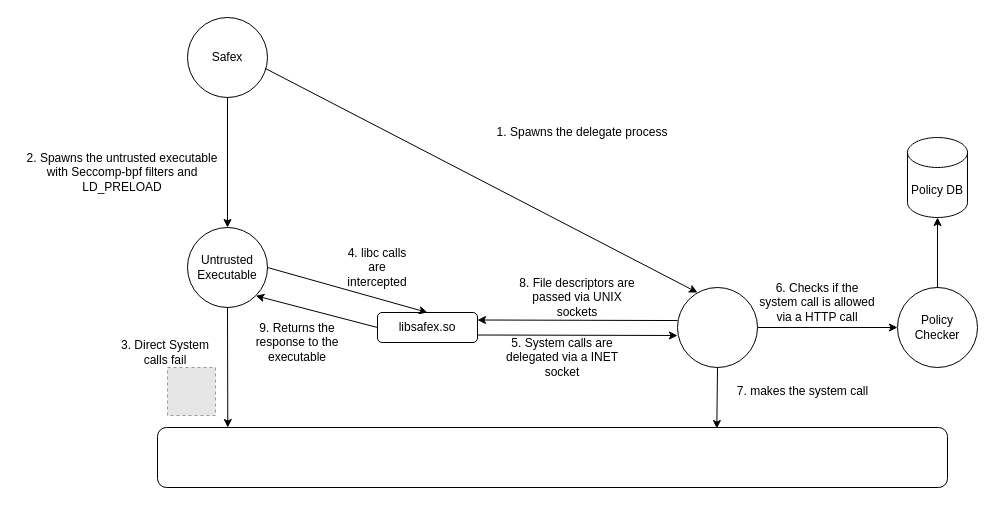
Image size: 995x505. Some labels were removed from this diagram. Grey dashed boxes stand in for pictures. The shapes that lost their labels are listed below. From the top down, each one's box as (x1, y1, x2, y2) in pixels, then its label:
(676, 286, 758, 368): Delegate
(156, 426, 948, 488): System Calls
